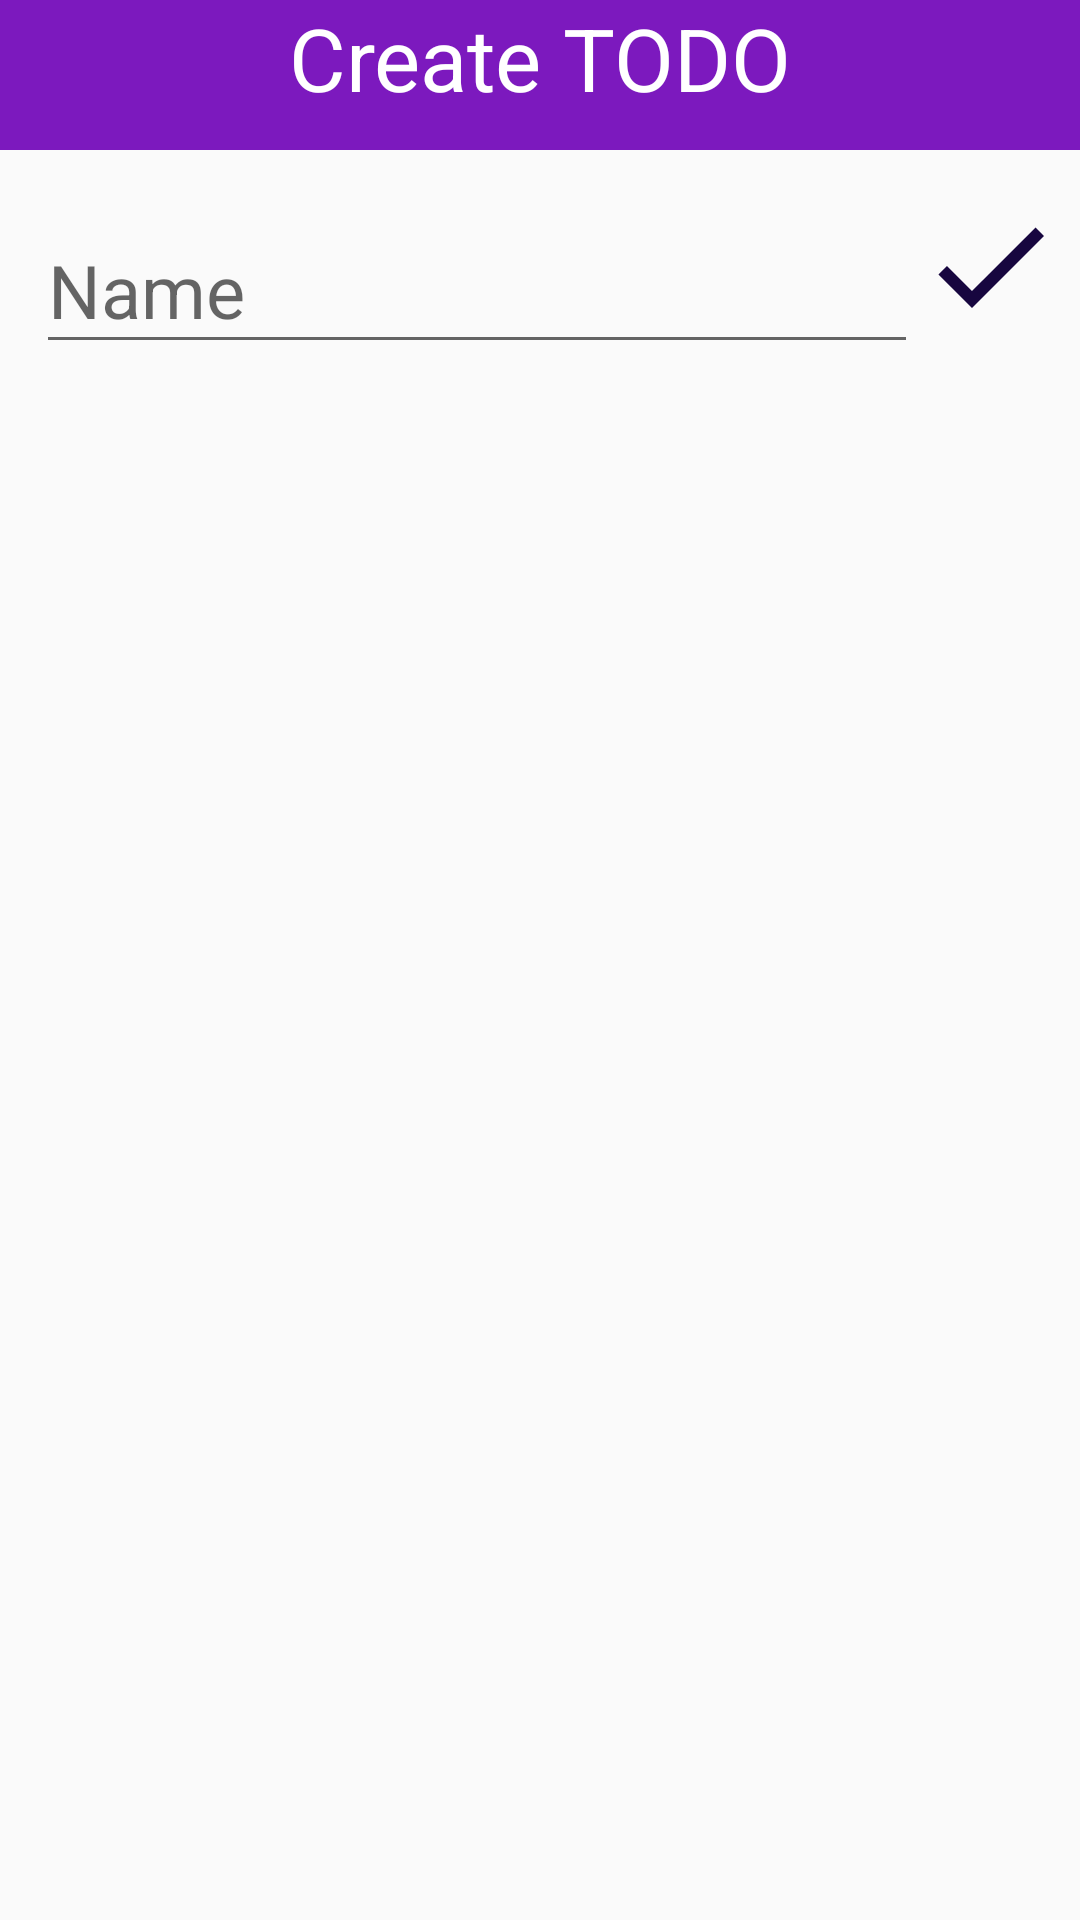

Where to tap for icons on this 1080w x 1920h app screen, as [x,y]:
Ok: [991,267]
